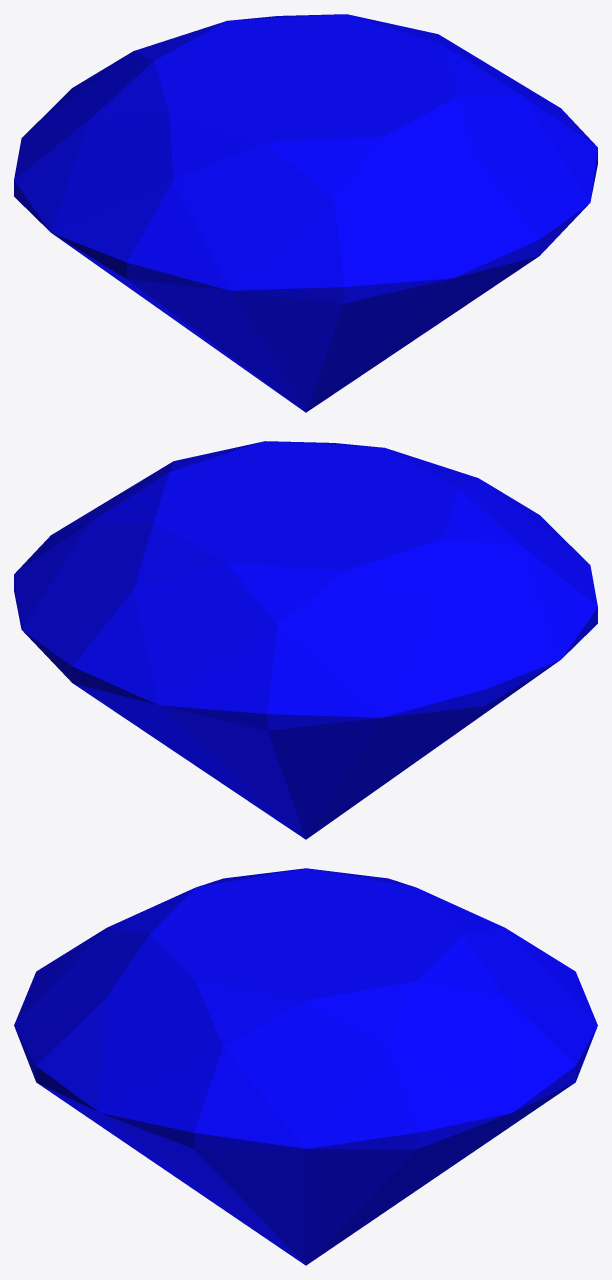
The model's file is sapphire2.glb.
3 renders of one model, top to bottom at view 1: azimuth 30°, elevation 25°; view 2: azimuth 150°, elevation 25°; view 3: azimuth 270°, elevation 25°, orthographic.
Parts seen in each view (by area): view 1: Sapphire; view 2: Sapphire; view 3: Sapphire.
Part boxes in pixels (box(x1,y1,x2,y2)): Sapphire: box(14, 14, 597, 412); Sapphire: box(14, 441, 597, 839); Sapphire: box(14, 868, 597, 1265).
Size of what is drawn, in the model's own units: 1.04 by 0.652 by 1.04.
